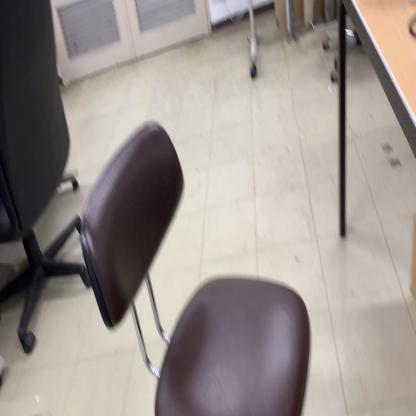chair: (80, 121, 312, 416), (0, 5, 94, 360)
